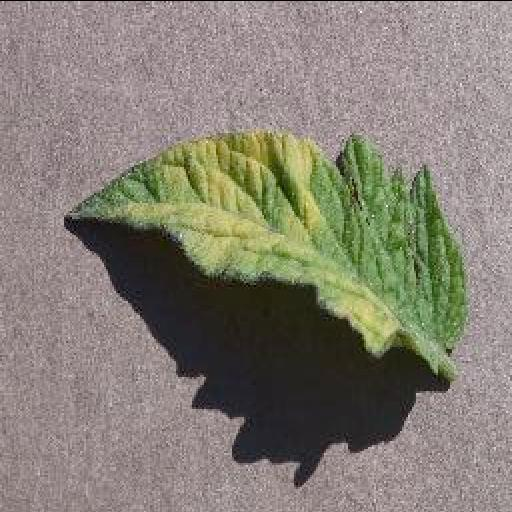disease_tomato: (62, 129, 466, 361)
